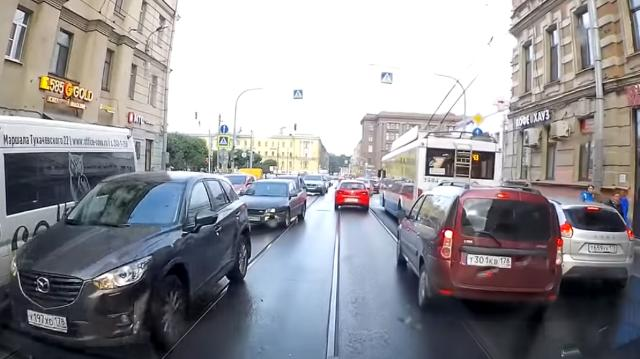non emergency car: (9, 171, 254, 353), (397, 183, 564, 313), (380, 127, 502, 225), (546, 195, 634, 293), (241, 179, 307, 229), (335, 181, 372, 214), (305, 176, 330, 197)
